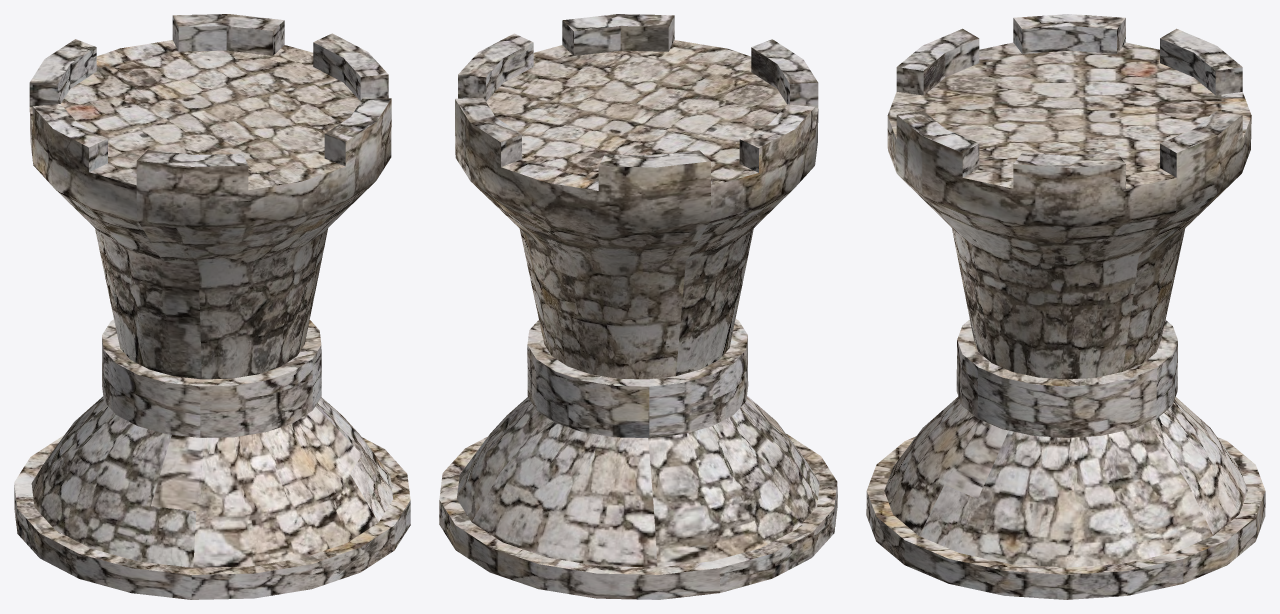
File: KR_Model_GuardTower_v02_Vang.fbx
The picture shows the model from 3 angles, left to right: view 1: azimuth 30°, elevation 25°; view 2: azimuth 150°, elevation 25°; view 3: azimuth 270°, elevation 25°; orthographic projection.
Visible parts, largest first — view 1: pCylinder5; view 2: pCylinder5; view 3: pCylinder5.
Part boxes in pixels (box(x1,y1,x2,y2)): pCylinder5: box(14, 14, 410, 599); pCylinder5: box(439, 14, 837, 599); pCylinder5: box(866, 14, 1265, 599).
Bounding box in the file's own units: 3.97 × 4.67 × 3.97.
1 material, 1 textured.
